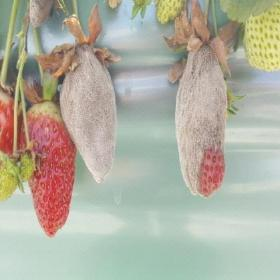Gray Mold: (174, 43, 228, 198), (59, 43, 117, 183), (28, 0, 54, 28)
